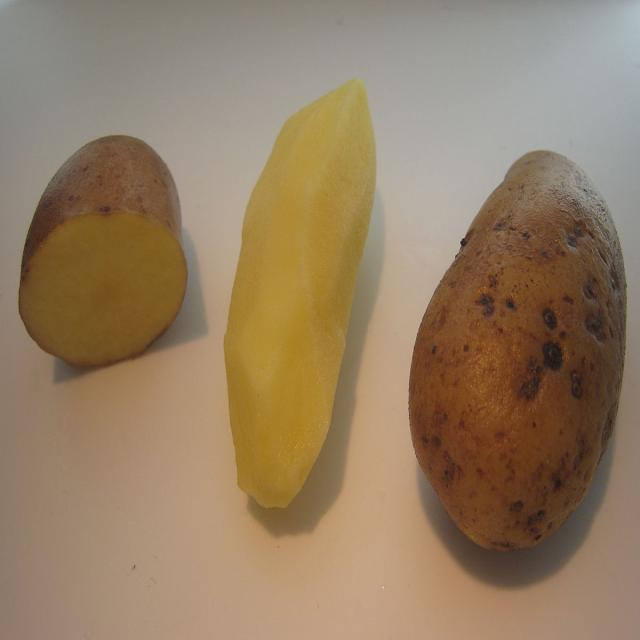Potato: (409, 150, 626, 550), (19, 135, 188, 365)
